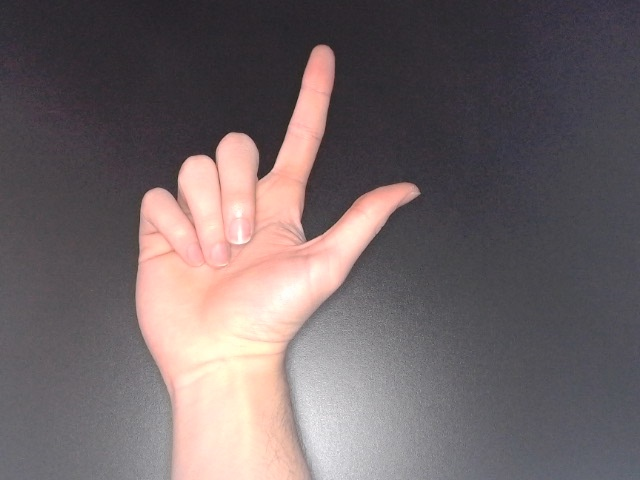l: (125, 40, 425, 391)
